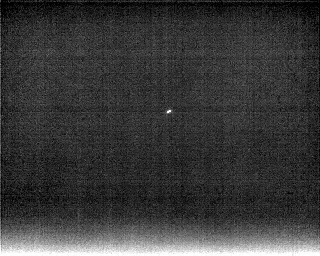BIRD: (164, 106, 174, 117)
